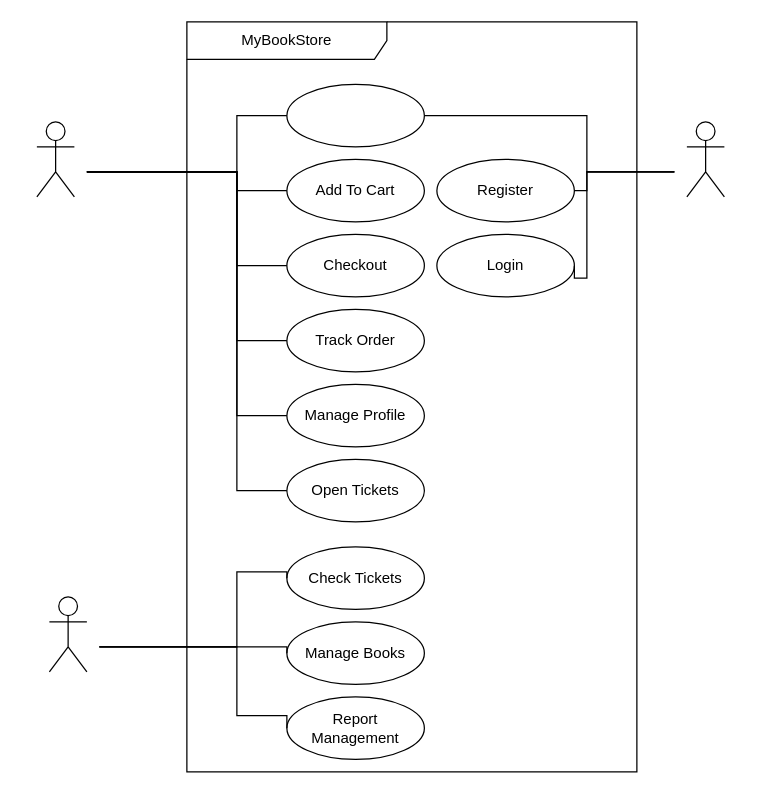
Some shapes in this 760 by 794 pixel diagram are drawn without their labels. Each missing label, with the centre of its shape:
"Bookstore Admin" goes at point 67,634.
"Bookstore Customer" goes at point 55,159.
"Bookstore Guest" goes at point 705,159.
"Browse books" goes at point 355,115.
